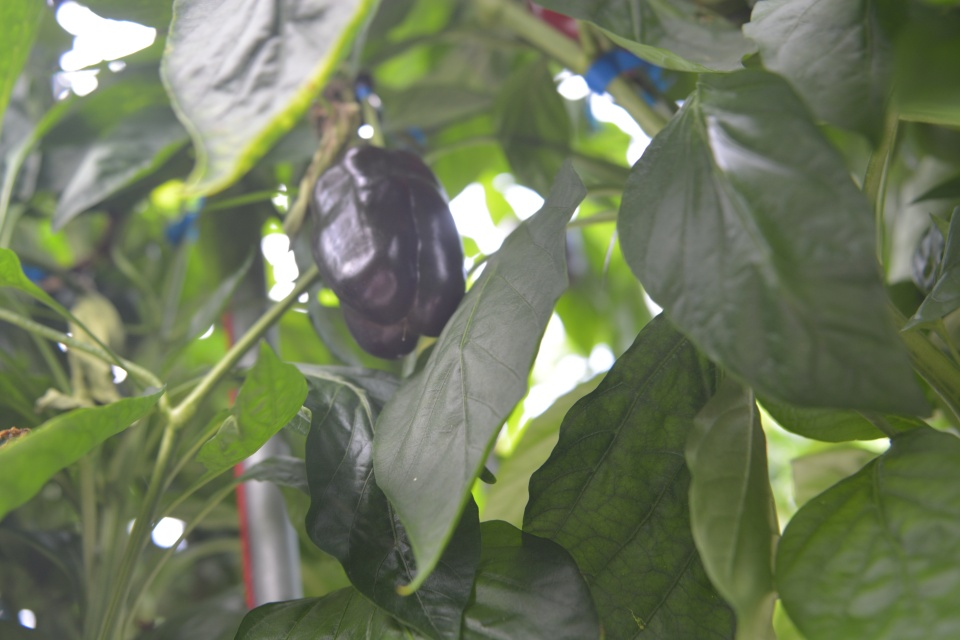fruit: (312, 141, 468, 364)
